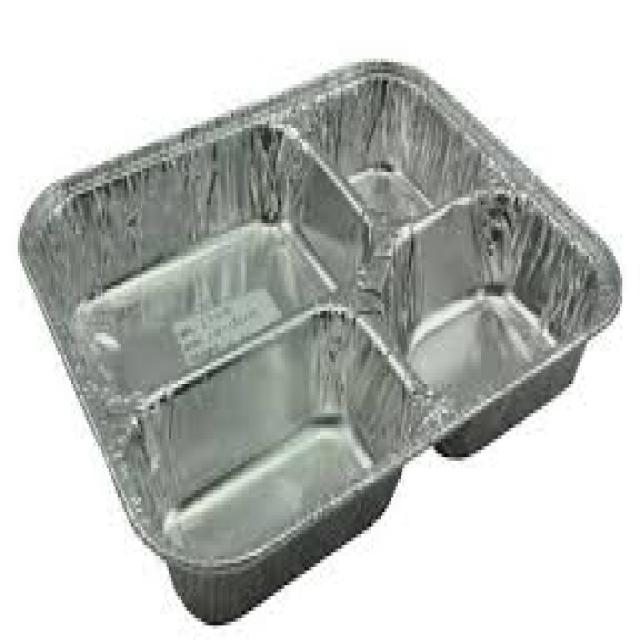metal: (13, 55, 620, 622)
